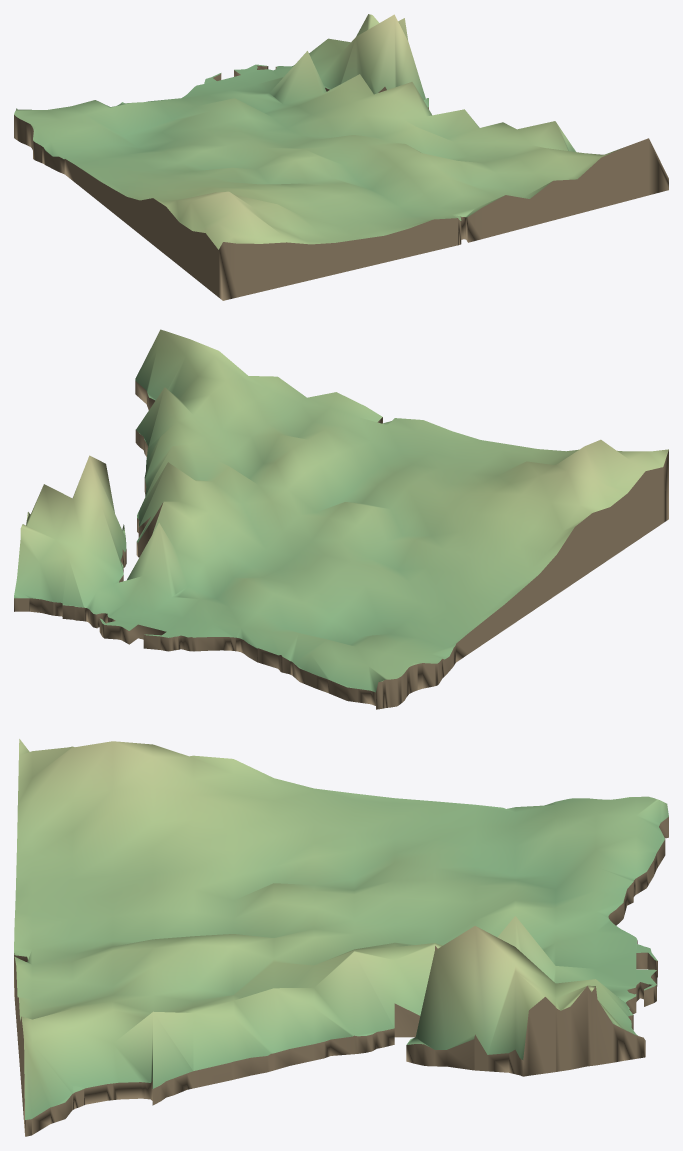
Rendered from EGY.glb.
The picture shows the model from 3 angles, top to bottom: view 1: azimuth 30°, elevation 25°; view 2: azimuth 150°, elevation 25°; view 3: azimuth 270°, elevation 25°; orthographic projection. The views are drawn at different scales.
Parts seen in each view (by area): view 1: EGY; view 2: EGY; view 3: EGY.
Part boxes in pixels (left/top/right/bottom): EGY: left=14, top=14, right=668, bottom=300; EGY: left=14, top=329, right=668, bottom=709; EGY: left=14, top=739, right=668, bottom=1136.
Bounding box in the file's own units: 1.42 × 0.2714 × 1.25.
